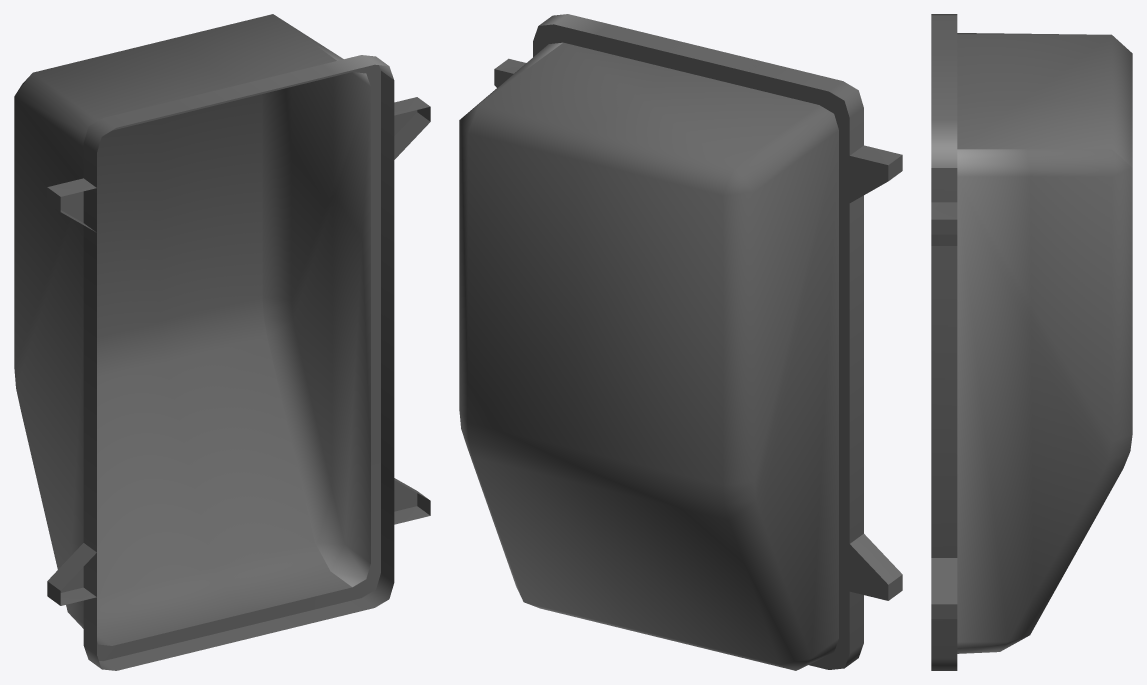
The model's file is Props_09.FBX.
3 views of the same model, side by side, from view 1: azimuth 30°, elevation 25°; view 2: azimuth 150°, elevation 25°; view 3: azimuth 270°, elevation 25° (orthographic). The views are drawn at different scales.
Parts seen in each view (by area): view 1: Object35938; view 2: Object35938; view 3: Object35938.
Boxes of the visible parts, x1=… form: Object35938: x1=14, y1=14, x2=430, y2=670; Object35938: x1=459, y1=14, x2=902, y2=670; Object35938: x1=931, y1=14, x2=1132, y2=670.
Bounding box in the file's own units: 44.2 × 62.01 × 21.38.
